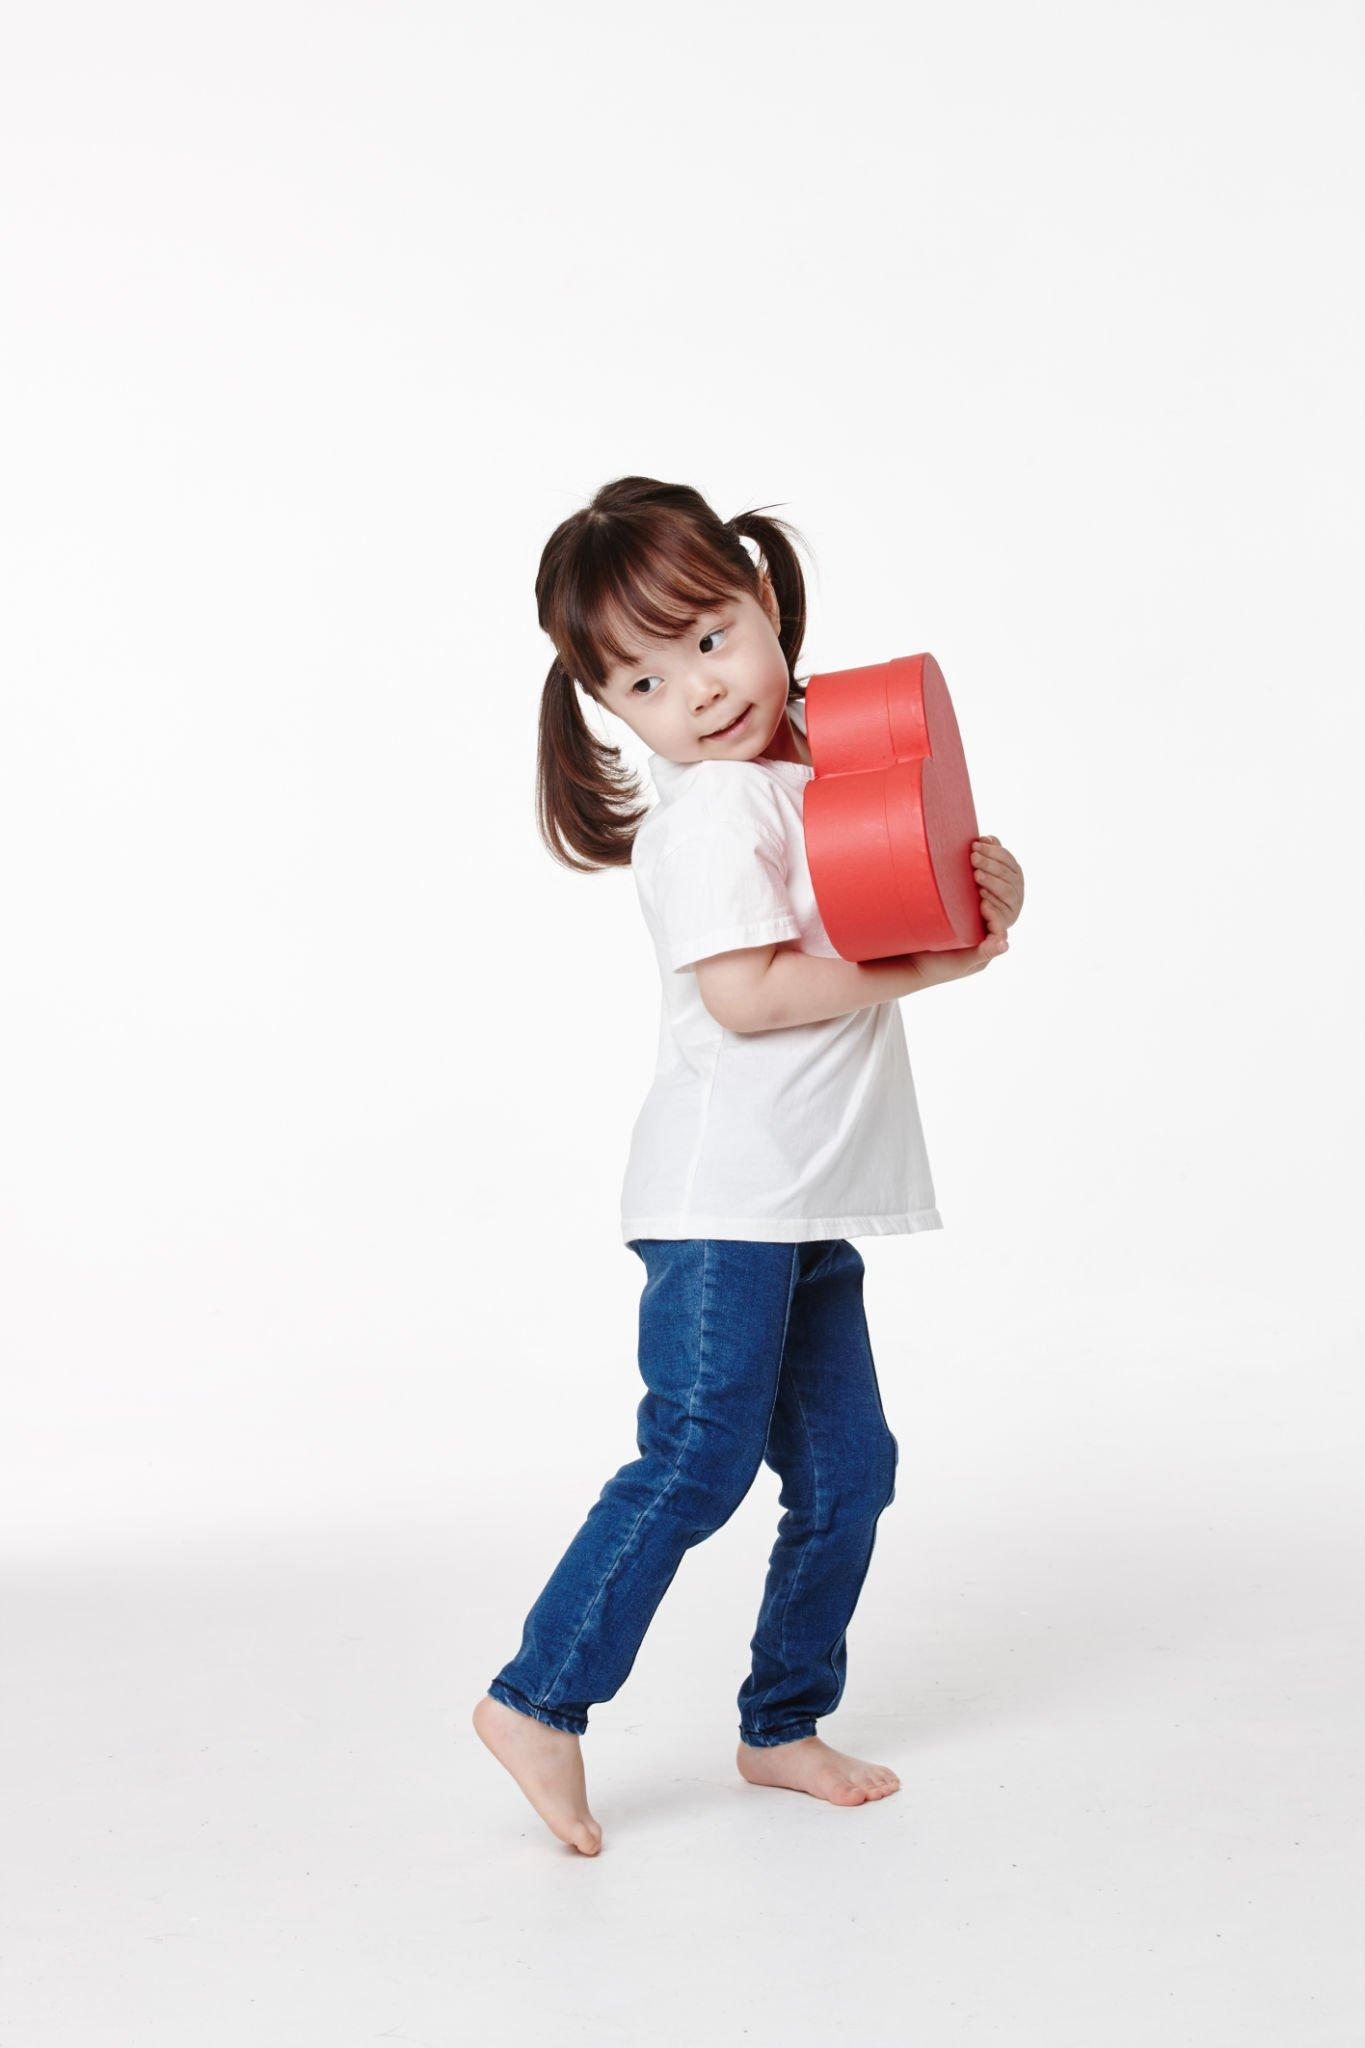Healthy: (582, 522, 783, 802)
